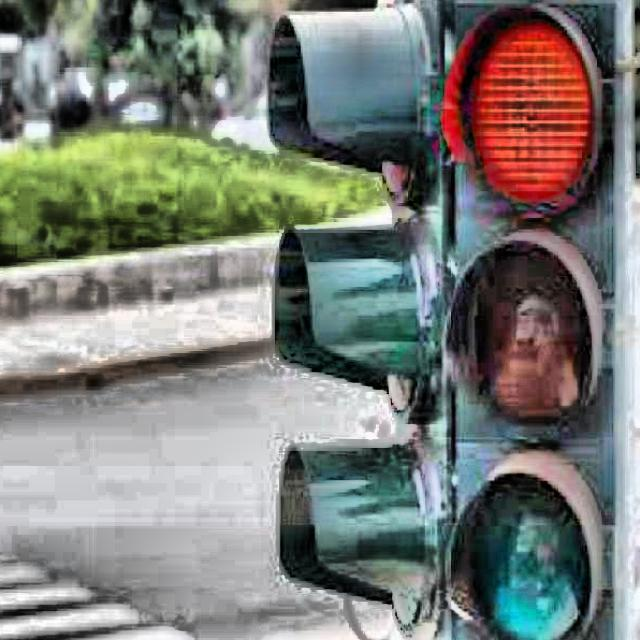red: (433, 0, 634, 640)
